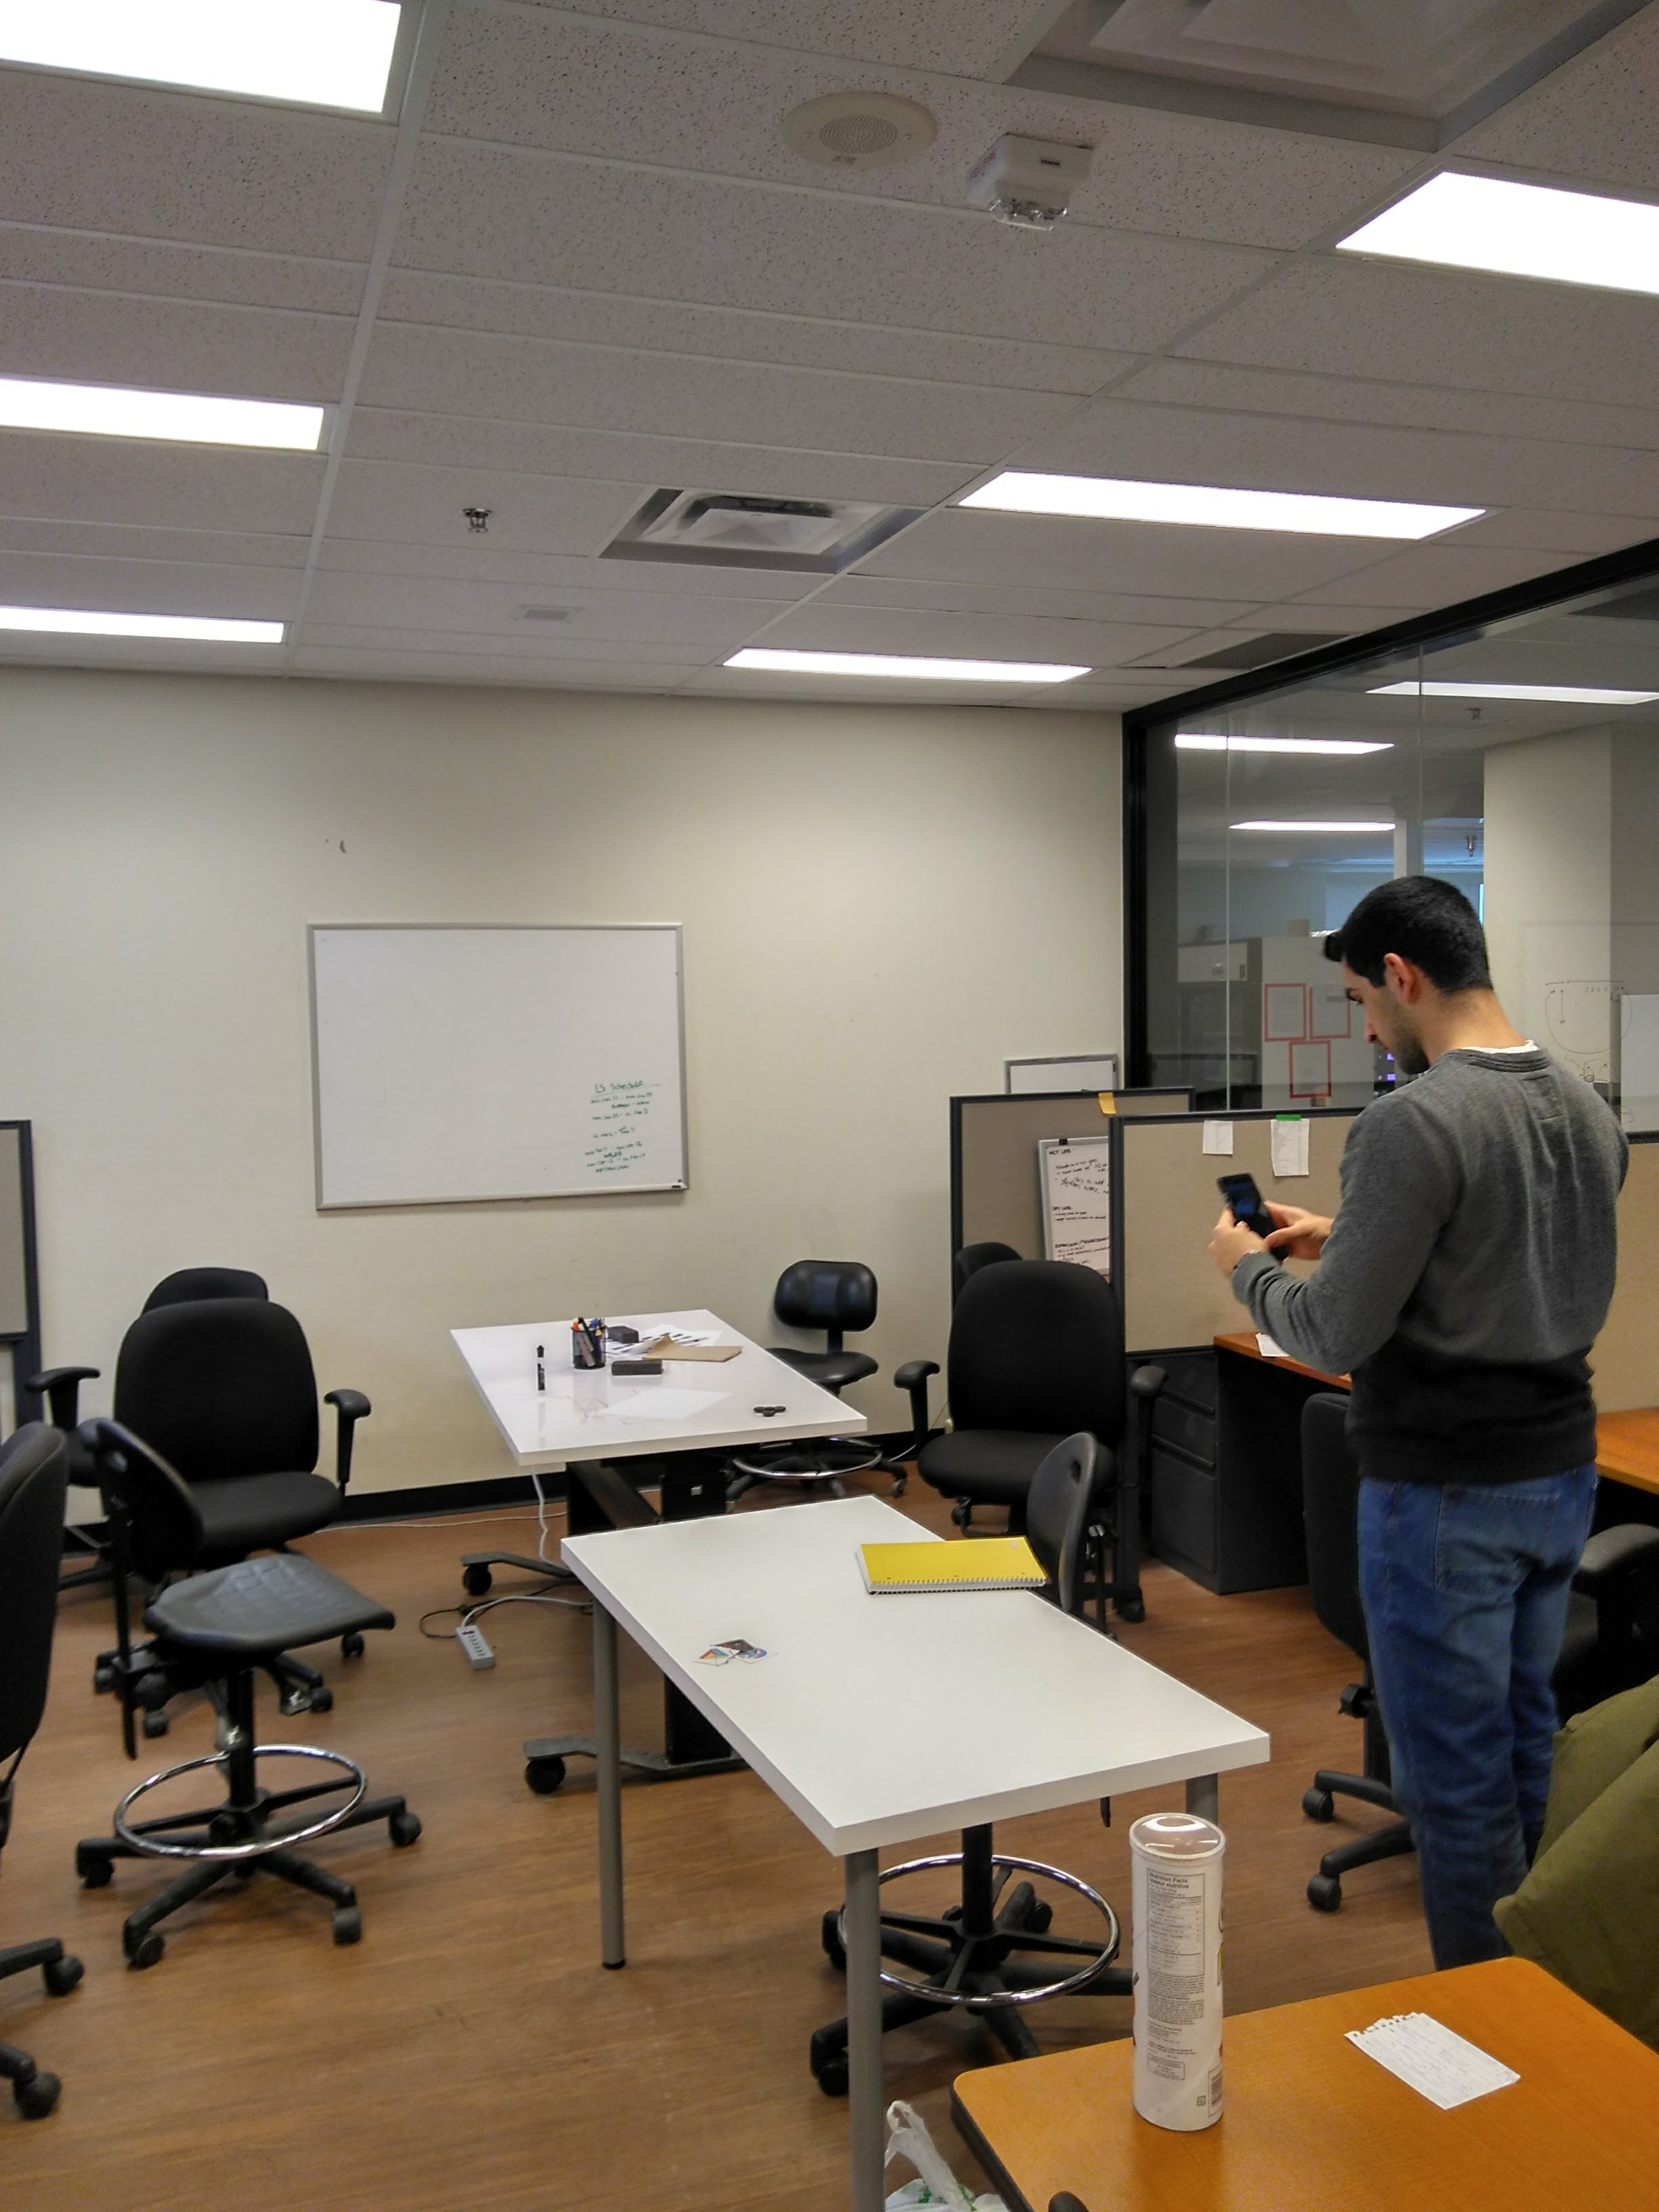pringles: (1105, 1797, 1265, 2156)
